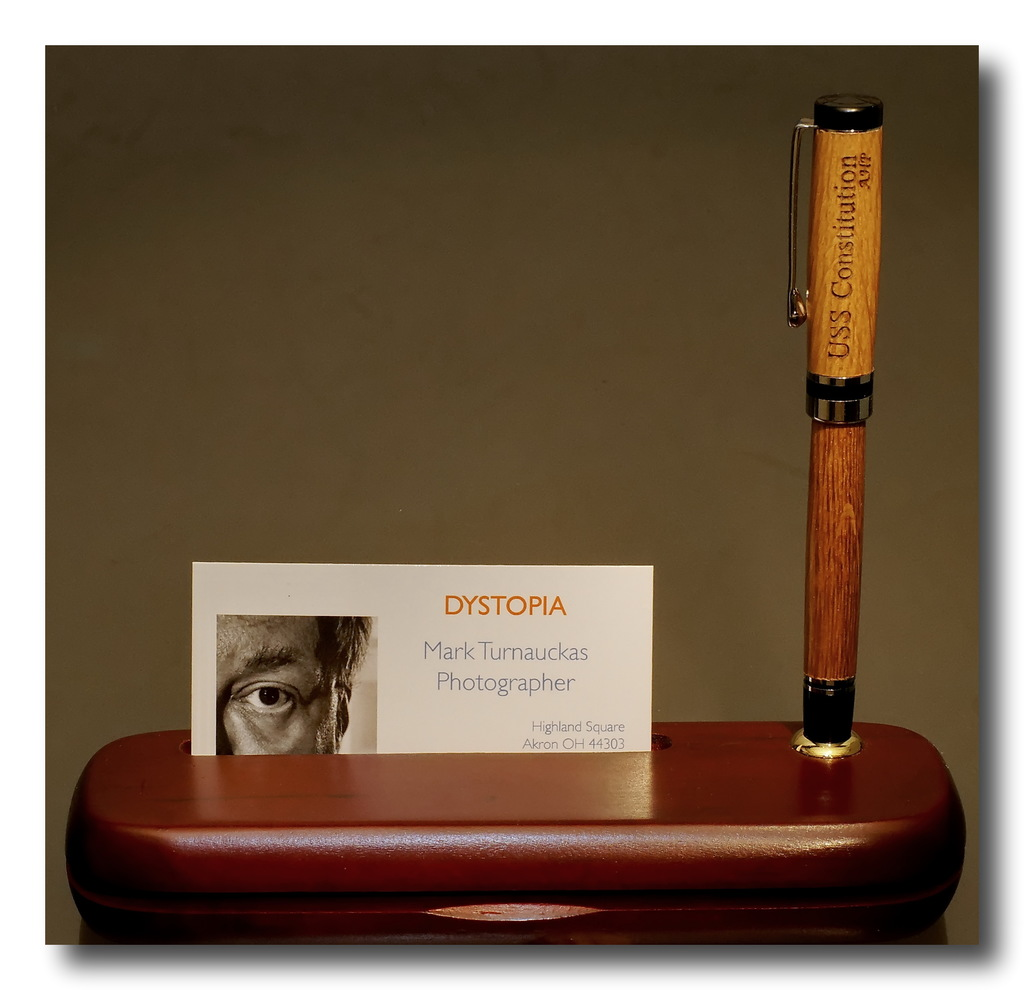Pen: (784, 86, 887, 742)
